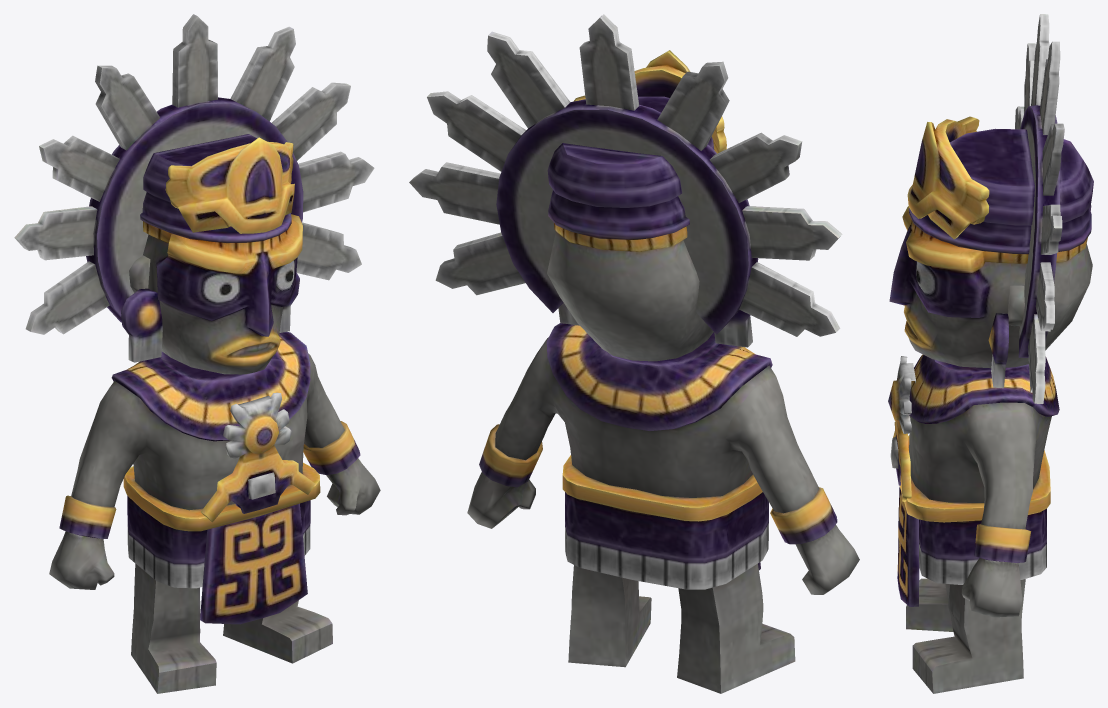
Rendered from body-oldcoyotesspirit.glb.
3 renders of one model, left to right at view 1: azimuth 30°, elevation 25°; view 2: azimuth 150°, elevation 25°; view 3: azimuth 270°, elevation 25°, orthographic. The views are drawn at different scales.
Bounding box in the file's own units: 1.03 × 1.59 × 0.4846.
Materials: 1 (1 with a texture image).
